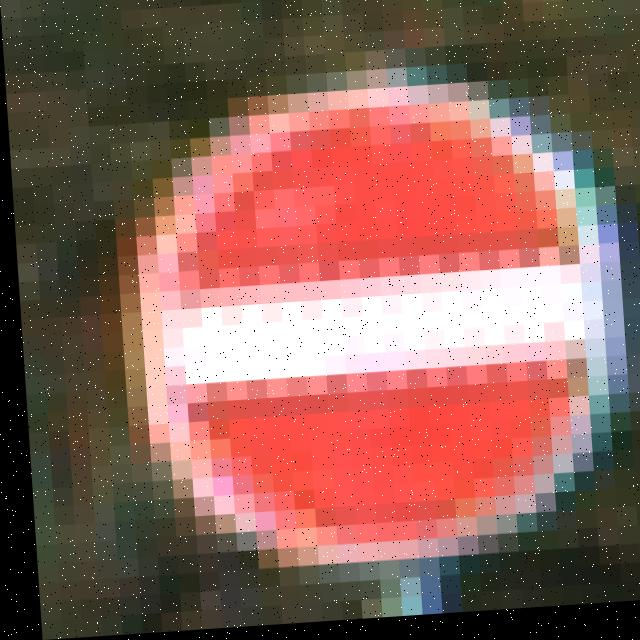road_rough: (112, 12, 631, 606)
